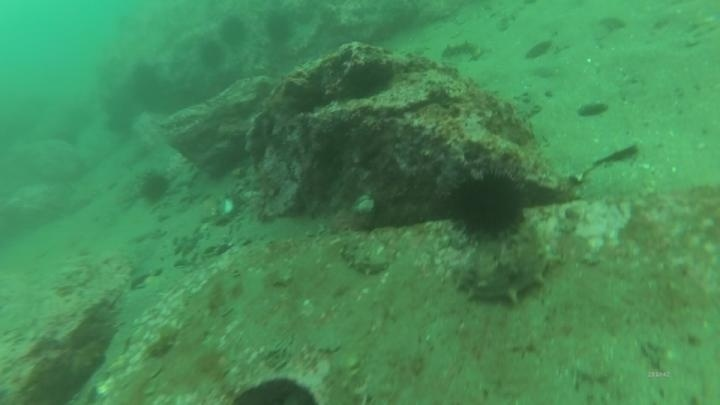echinus: (445, 166, 529, 242), (341, 61, 395, 105), (136, 168, 173, 206), (217, 14, 250, 49), (263, 11, 296, 46), (196, 39, 228, 71)
holothurian: (450, 218, 559, 315), (329, 226, 392, 278), (319, 351, 369, 405), (439, 38, 485, 64)
